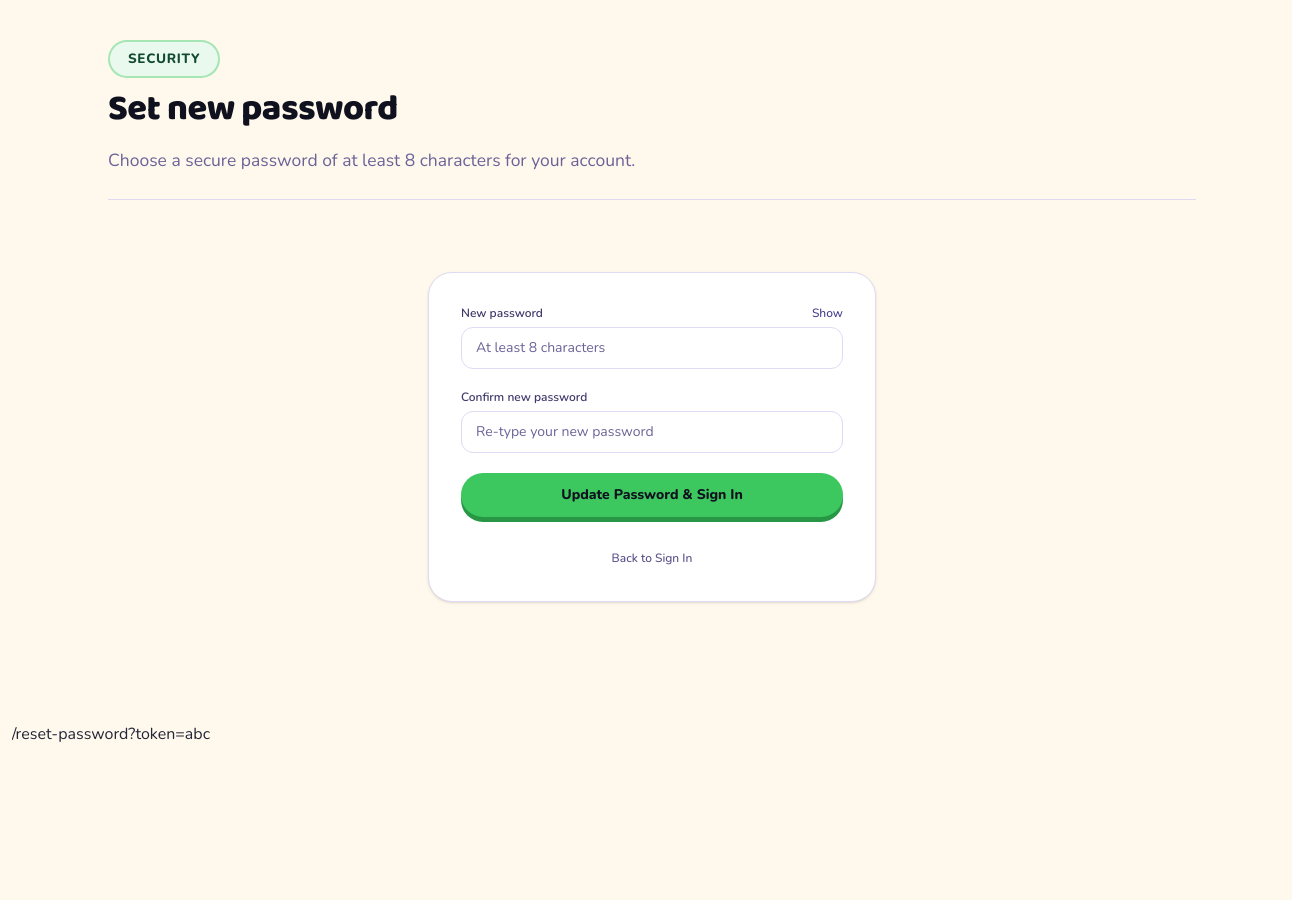
ResetPasswordPage › rejects two passwords that do not match
Type "password123" into the password field with id "new-password" at x=652, y=348, box x1=461 y1=327 x2=843 y2=369
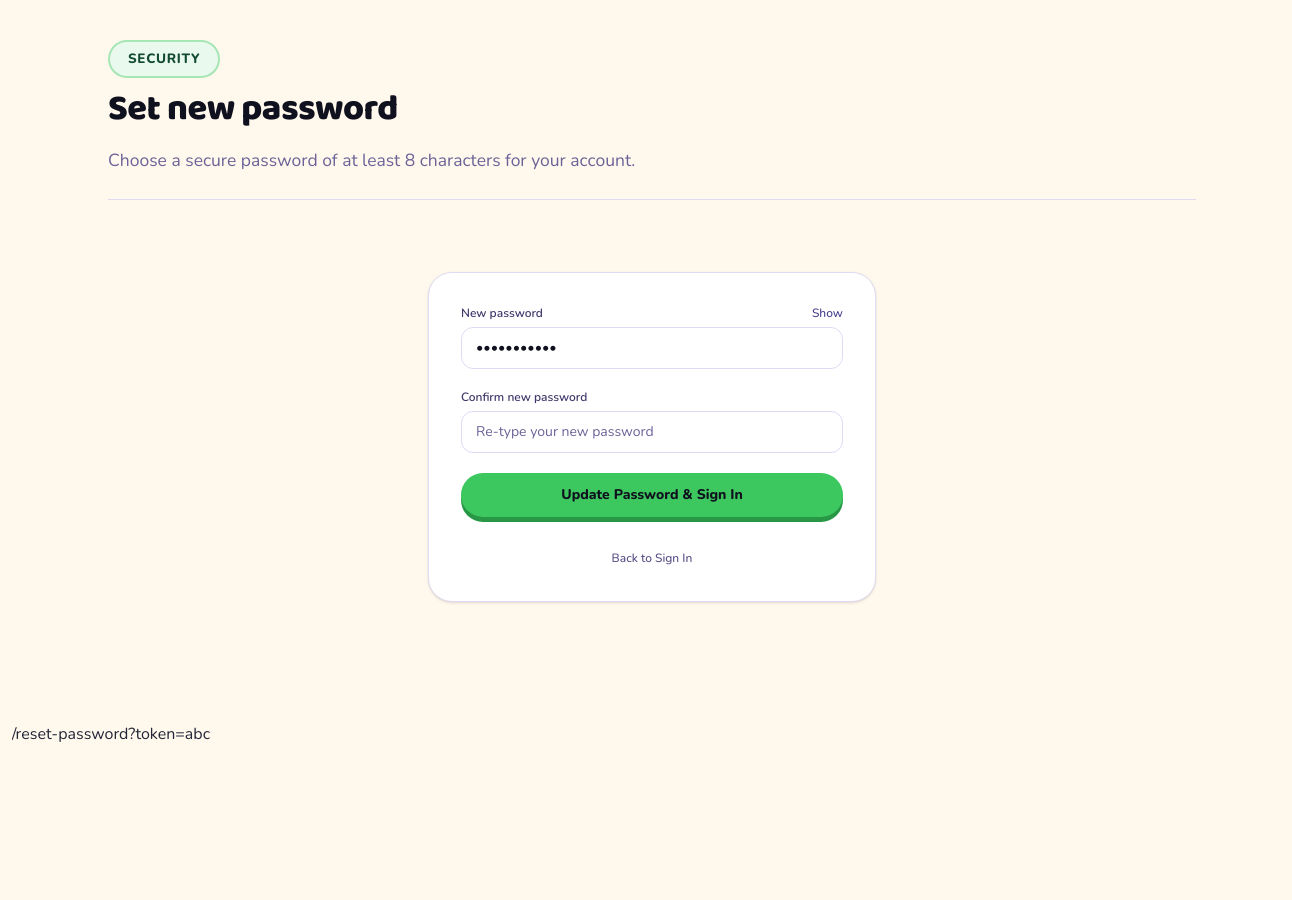
Type "password124" into the password field with id "confirm-new-password" at x=652, y=432, box x1=461 y1=411 x2=843 y2=453
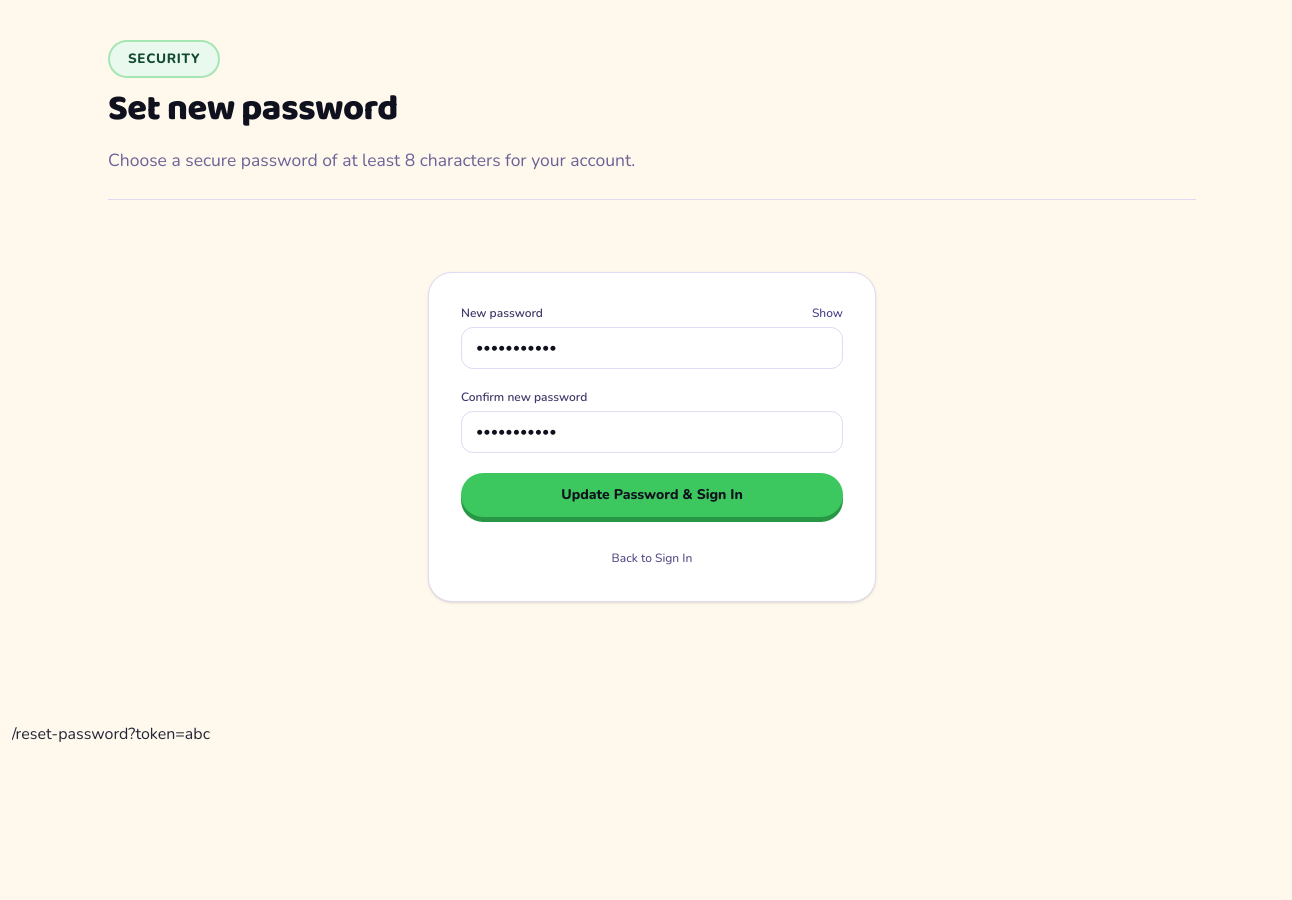
Submit the form, box x1=461 y1=305 x2=843 y2=569
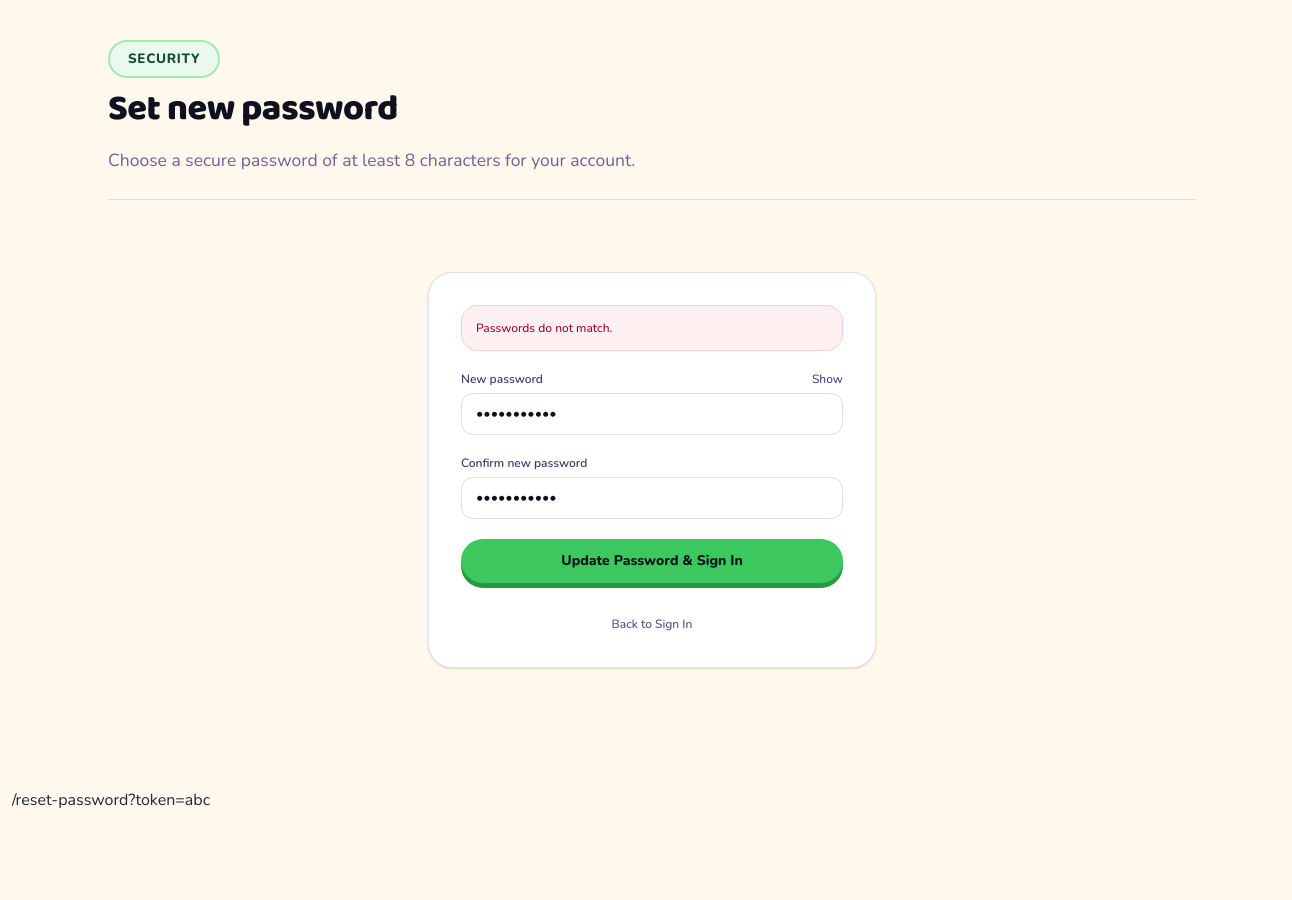
Expected: the message reads "Passwords do not match.", x1=476 y1=320 x2=612 y2=336
